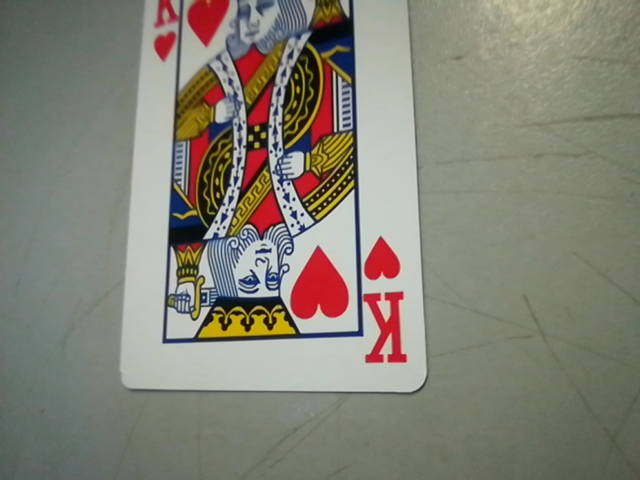hx k: (354, 229, 419, 375)
